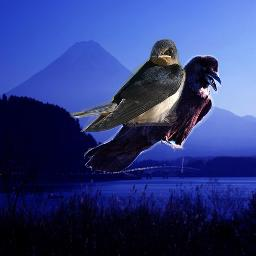Crow: (84, 55, 221, 173)
Swallow: (69, 39, 186, 132)
